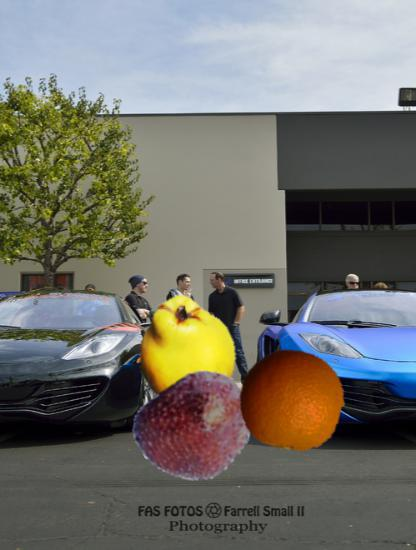Orange: (239, 347, 345, 453)
Quince: (131, 294, 246, 409)
Salak: (137, 368, 258, 489)
